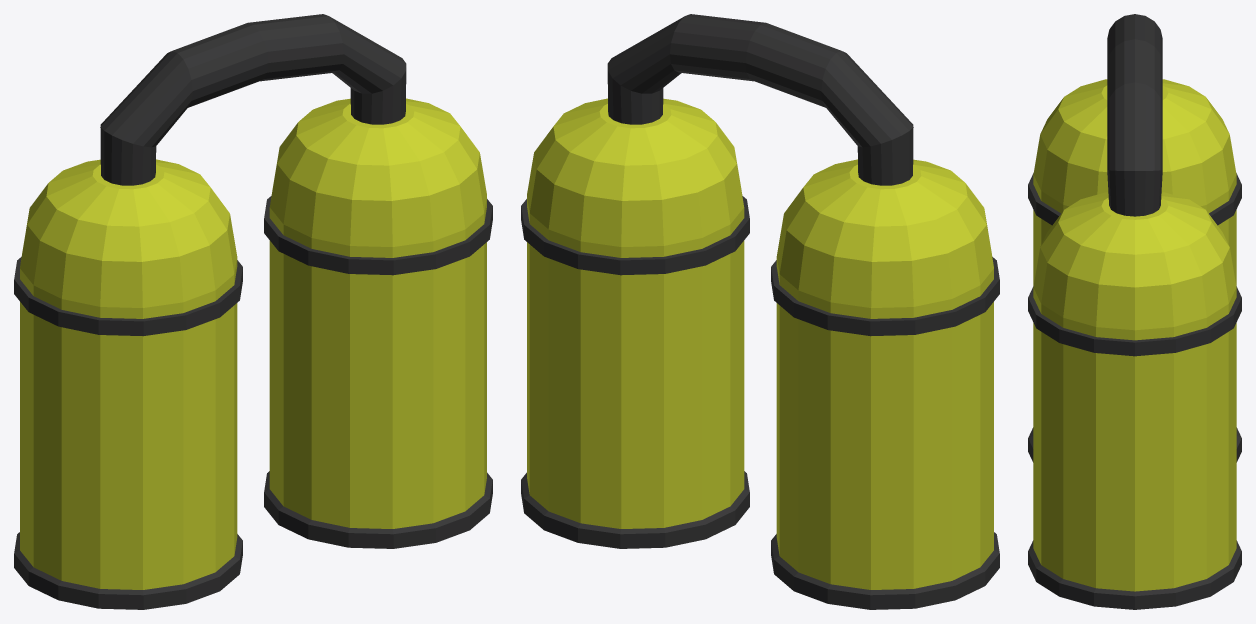
Rendered from Factory4_1.fbx.
The picture shows the model from 3 angles, left to right: view 1: azimuth 30°, elevation 25°; view 2: azimuth 150°, elevation 25°; view 3: azimuth 270°, elevation 25°; orthographic projection. The views are drawn at different scales.
Visible parts, largest first — view 1: Building2_1.008; view 2: Building2_1.008; view 3: Building2_1.008.
Boxes of the visible parts, x1,y1,x2,y2 form: Building2_1.008: [14, 14, 492, 609]; Building2_1.008: [521, 14, 999, 609]; Building2_1.008: [1028, 14, 1241, 609].
Bounding box in the file's own units: 648 × 697 × 288.
